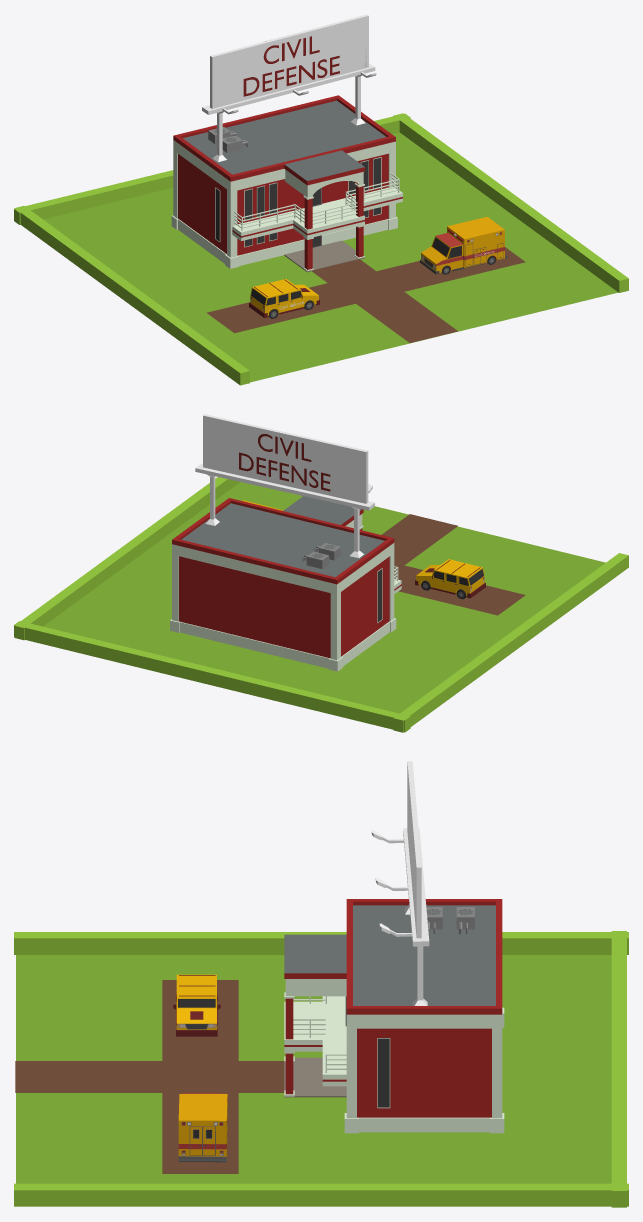
Rendered from civildefense.gltf.
The picture shows the model from 3 angles, top to bottom: view 1: azimuth 30°, elevation 25°; view 2: azimuth 150°, elevation 25°; view 3: azimuth 270°, elevation 25°; orthographic projection. The views are drawn at different scales.
Visible parts, largest first — view 1: Natures_Grass Tile_Plane.010, Building_House_03_color01_Cylinder.000, Props_BillBoard_large_Cube.528, Road Concrete Tile_Plane.010, Natures_Grass Fence_Cube.002, Natures_Grass Fence_Cube.001, Road Concrete Tile_Plane.001, Vehicle_Ambulance_Cube.035, Natures_Grass Fence_Cube.2536, Vehicle_SUV_Cube.004, Text; view 2: Natures_Grass Tile_Plane.010, Building_House_03_color01_Cylinder.000, Props_BillBoard_large_Cube.528, Natures_Grass Fence_Cube.2536, Natures_Grass Fence_Cube.002, Natures_Grass Fence_Cube.001, Road Concrete Tile_Plane.010, Road Concrete Tile_Plane.001, Vehicle_SUV_Cube.004, Text.001; view 3: Natures_Grass Tile_Plane.010, Building_House_03_color01_Cylinder.000, Natures_Grass Fence_Cube.001, Natures_Grass Fence_Cube.002, Road Concrete Tile_Plane.001, Road Concrete Tile_Plane.010, Natures_Grass Fence_Cube.2536, Props_BillBoard_large_Cube.528, Vehicle_Ambulance_Cube.035, Vehicle_SUV_Cube.004.
Boxes of the visible parts, x1,y1,x2,y2 form: Natures_Grass Tile_Plane.010: (43, 132, 617, 382); Building_House_03_color01_Cylinder.000: (171, 95, 402, 272); Props_BillBoard_large_Cube.528: (202, 14, 376, 162); Road Concrete Tile_Plane.010: (206, 247, 525, 333); Natures_Grass Fence_Cube.002: (14, 206, 249, 385); Natures_Grass Fence_Cube.001: (393, 113, 628, 292); Road Concrete Tile_Plane.001: (311, 259, 457, 342); Vehicle_Ambulance_Cube.035: (420, 217, 507, 274); Natures_Grass Fence_Cube.2536: (14, 113, 410, 224); Vehicle_SUV_Cube.004: (249, 279, 319, 318); Text: (243, 36, 339, 96); Natures_Grass Tile_Plane.010: (43, 482, 605, 713); Building_House_03_color01_Cylinder.000: (170, 496, 401, 671); Props_BillBoard_large_Cube.528: (195, 414, 374, 557); Natures_Grass Fence_Cube.2536: (14, 621, 410, 732); Natures_Grass Fence_Cube.002: (393, 553, 628, 732); Natures_Grass Fence_Cube.001: (14, 477, 239, 640); Road Concrete Tile_Plane.010: (394, 563, 525, 615); Road Concrete Tile_Plane.001: (381, 514, 457, 565); Vehicle_SUV_Cube.004: (415, 559, 485, 599); Text.001: (239, 434, 330, 491); Natures_Grass Tile_Plane.010: (16, 955, 611, 1183); Building_House_03_color01_Cylinder.000: (284, 899, 504, 1133); Natures_Grass Fence_Cube.001: (14, 1183, 628, 1206); Natures_Grass Fence_Cube.002: (14, 932, 628, 954); Road Concrete Tile_Plane.001: (15, 1061, 284, 1092); Road Concrete Tile_Plane.010: (162, 980, 238, 1173); Natures_Grass Fence_Cube.2536: (611, 931, 626, 1207); Props_BillBoard_large_Cube.528: (371, 761, 429, 1005); Vehicle_Ambulance_Cube.035: (178, 1093, 227, 1162); Vehicle_SUV_Cube.004: (173, 974, 220, 1036).
Size of the model in its own units: 40.25 by 19.11 by 40.25.
14 materials, 10 textured.
